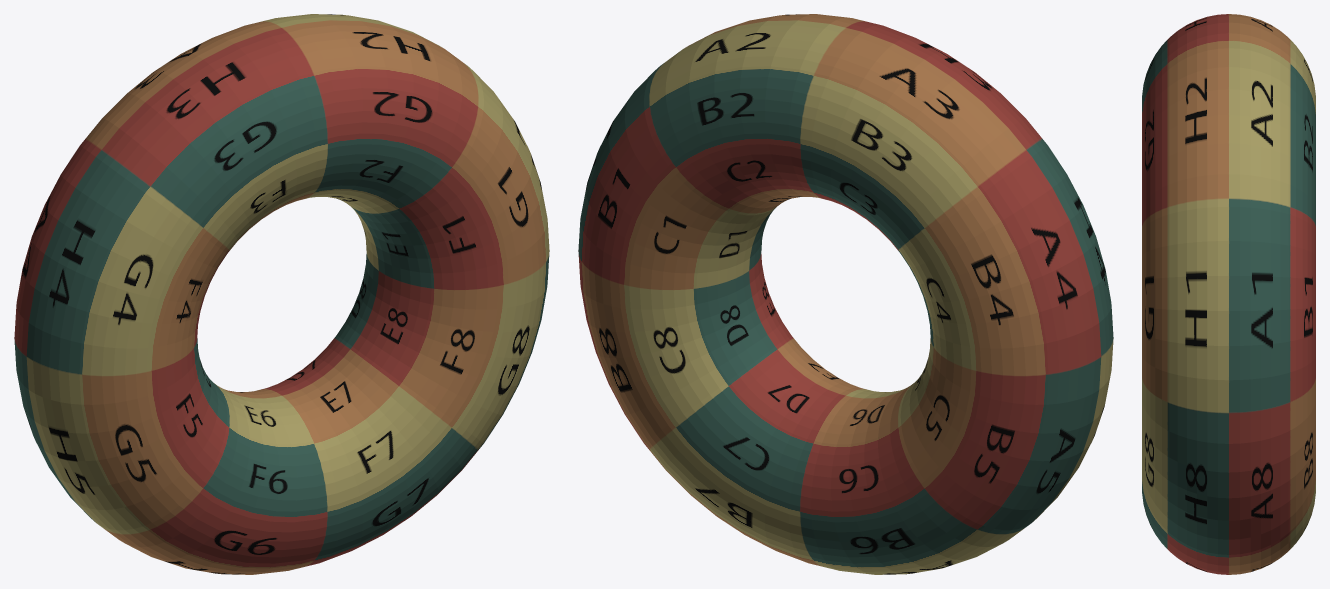
Rendered from texture_torus_R5_r15.glb.
3 views of the same model, side by side, from view 1: azimuth 30°, elevation 25°; view 2: azimuth 150°, elevation 25°; view 3: azimuth 270°, elevation 25° (orthographic). The views are drawn at different scales.
Parts seen in each view (by area): view 1: world; view 2: world; view 3: world.
Boxes of the visible parts, x1,y1,x2,y2 form: world: (14, 14, 549, 574); world: (578, 14, 1113, 574); world: (1142, 14, 1315, 574).
Bounding box in the file's own units: 19.33 × 19.3 × 5.99.
1 material, 1 textured.
